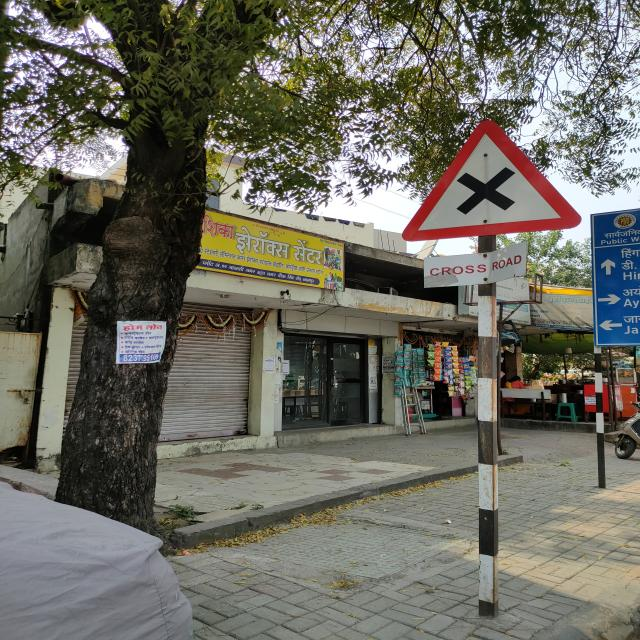cross_road: (399, 116, 583, 244)
